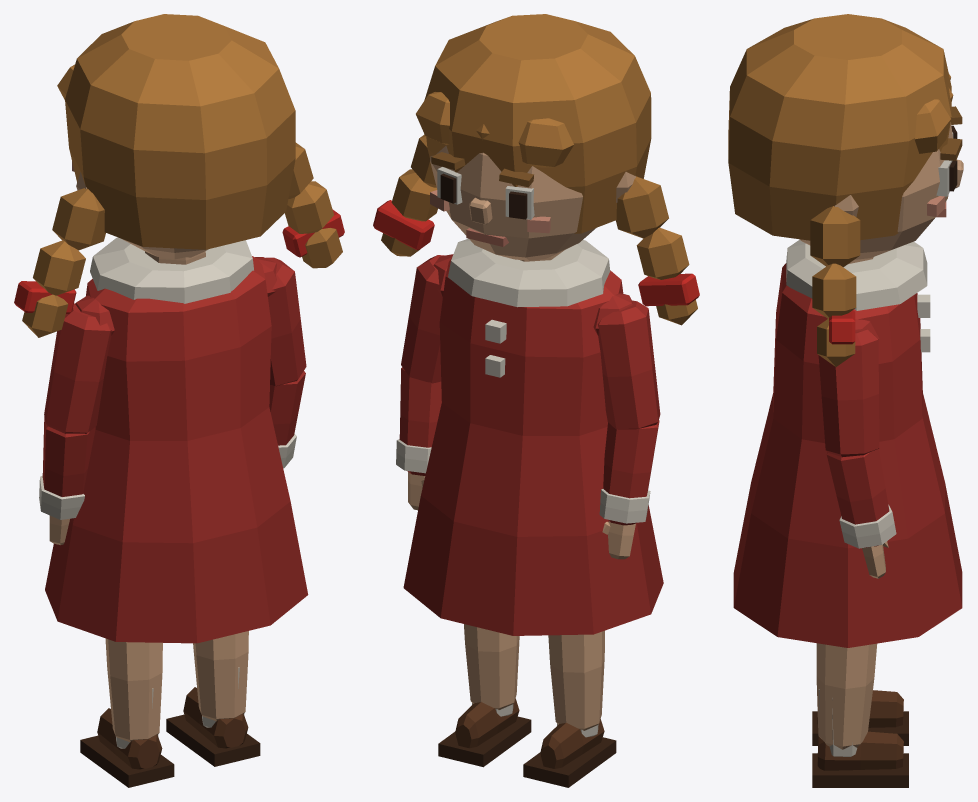
The model's file is chr_leni.glb.
The picture shows the model from 3 angles, left to right: view 1: azimuth 30°, elevation 25°; view 2: azimuth 150°, elevation 25°; view 3: azimuth 270°, elevation 25°; orthographic projection.
Parts seen in each view (by area): view 1: chr_leni_stand; view 2: chr_leni_stand; view 3: chr_leni_stand.
Part boxes in pixels (x1,y1,x2,y2): chr_leni_stand: [14, 14, 344, 787]; chr_leni_stand: [373, 14, 699, 787]; chr_leni_stand: [728, 14, 963, 787].
Bounding box in the file's own units: 0.4883 × 1.05 × 0.3114.
